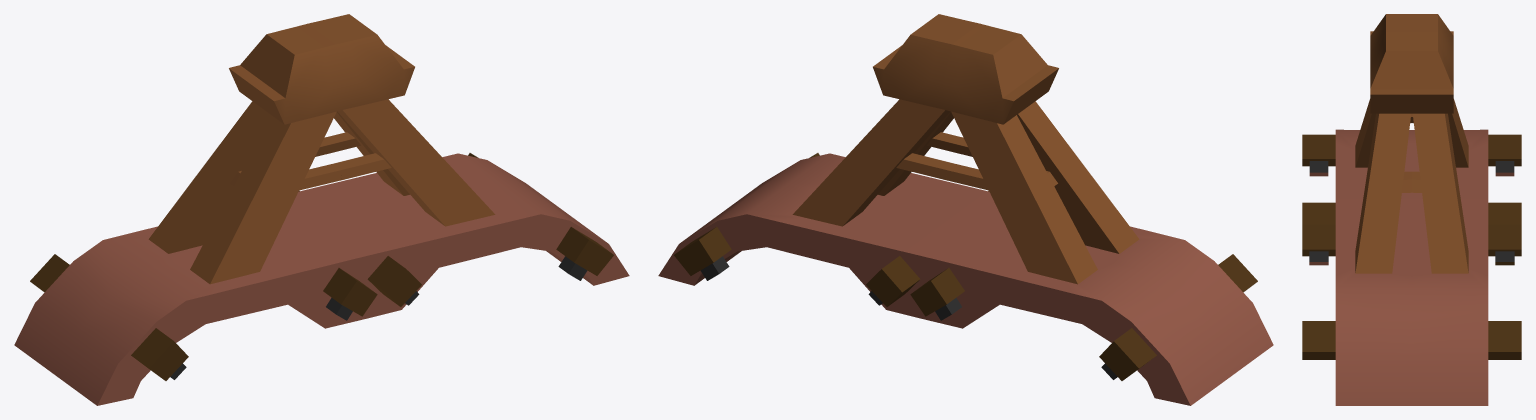
File: Been Links Achter Frame.fbx
3 renders of one model, left to right at view 1: azimuth 30°, elevation 25°; view 2: azimuth 150°, elevation 25°; view 3: azimuth 270°, elevation 25°, orthographic. The views are drawn at different scales.
Visible parts, largest first — view 1: Cube.002; view 2: Cube.002; view 3: Cube.002.
Boxes of the visible parts, bbox=[...] form: Cube.002: bbox=[14, 14, 629, 405]; Cube.002: bbox=[658, 14, 1273, 405]; Cube.002: bbox=[1302, 14, 1521, 405].
Bounding box in the file's own units: 1510 × 752 × 586.
